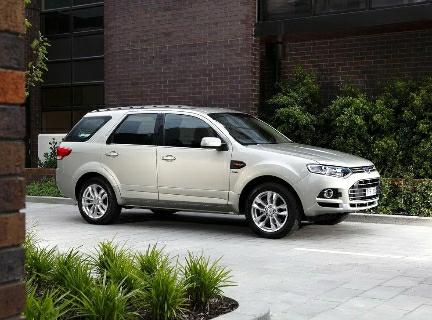car: (47, 99, 398, 240)
